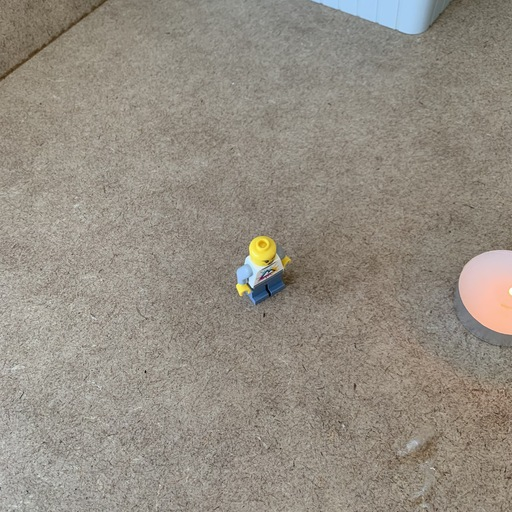human: (224, 229, 299, 312)
